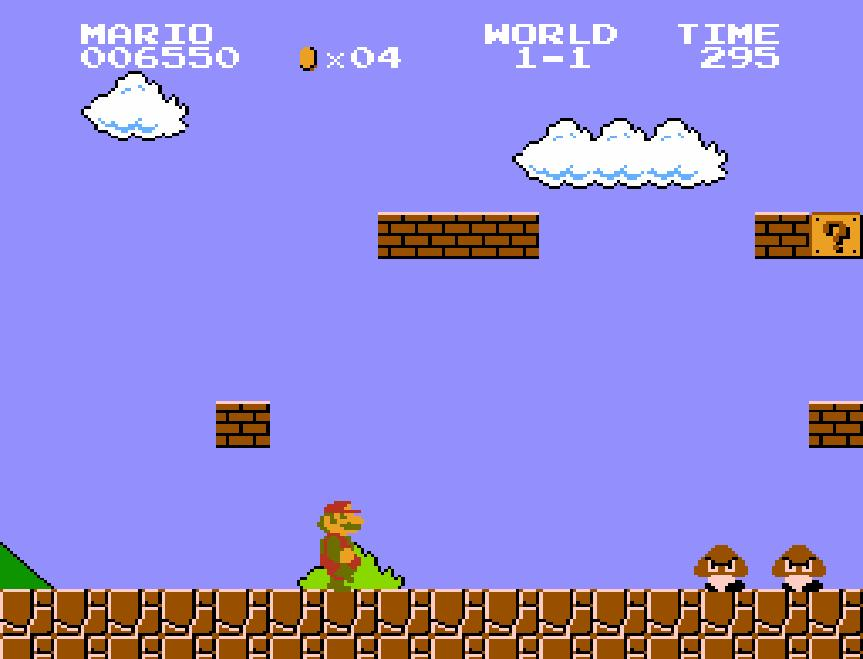big_mario: (311, 496, 369, 594)
